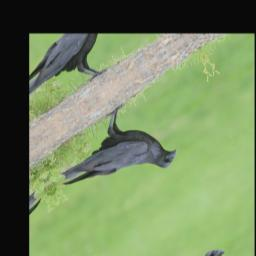Crow: (47, 86, 182, 227)
